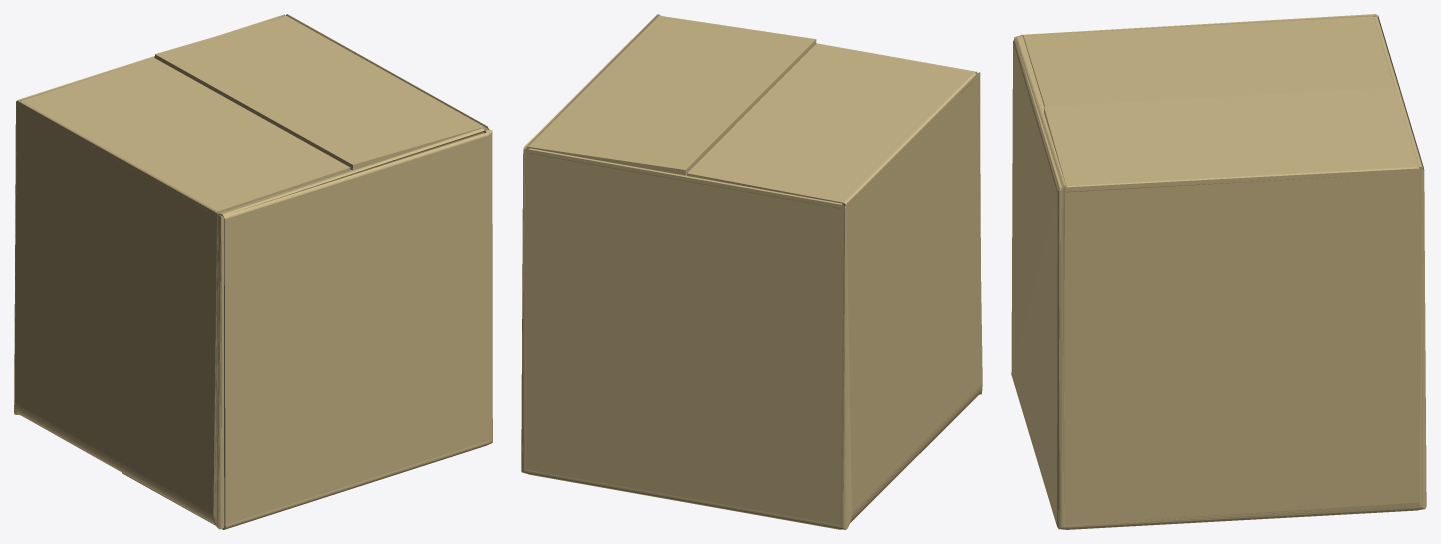
Rendered from testbox.obj.
3 renders of one model, left to right at view 1: azimuth 30°, elevation 25°; view 2: azimuth 150°, elevation 25°; view 3: azimuth 270°, elevation 25°, orthographic. The views are drawn at different scales.
Visible parts, largest first — view 1: Shape_IndexedFaceSet.033; view 2: Shape_IndexedFaceSet.033; view 3: Shape_IndexedFaceSet.033.
Part boxes in pixels (x1,y1,x2,y2): Shape_IndexedFaceSet.033: (14, 14, 492, 529); Shape_IndexedFaceSet.033: (521, 14, 982, 529); Shape_IndexedFaceSet.033: (1011, 14, 1426, 529).
Bounding box in the file's own units: 29.37 × 26.97 × 29.18.
